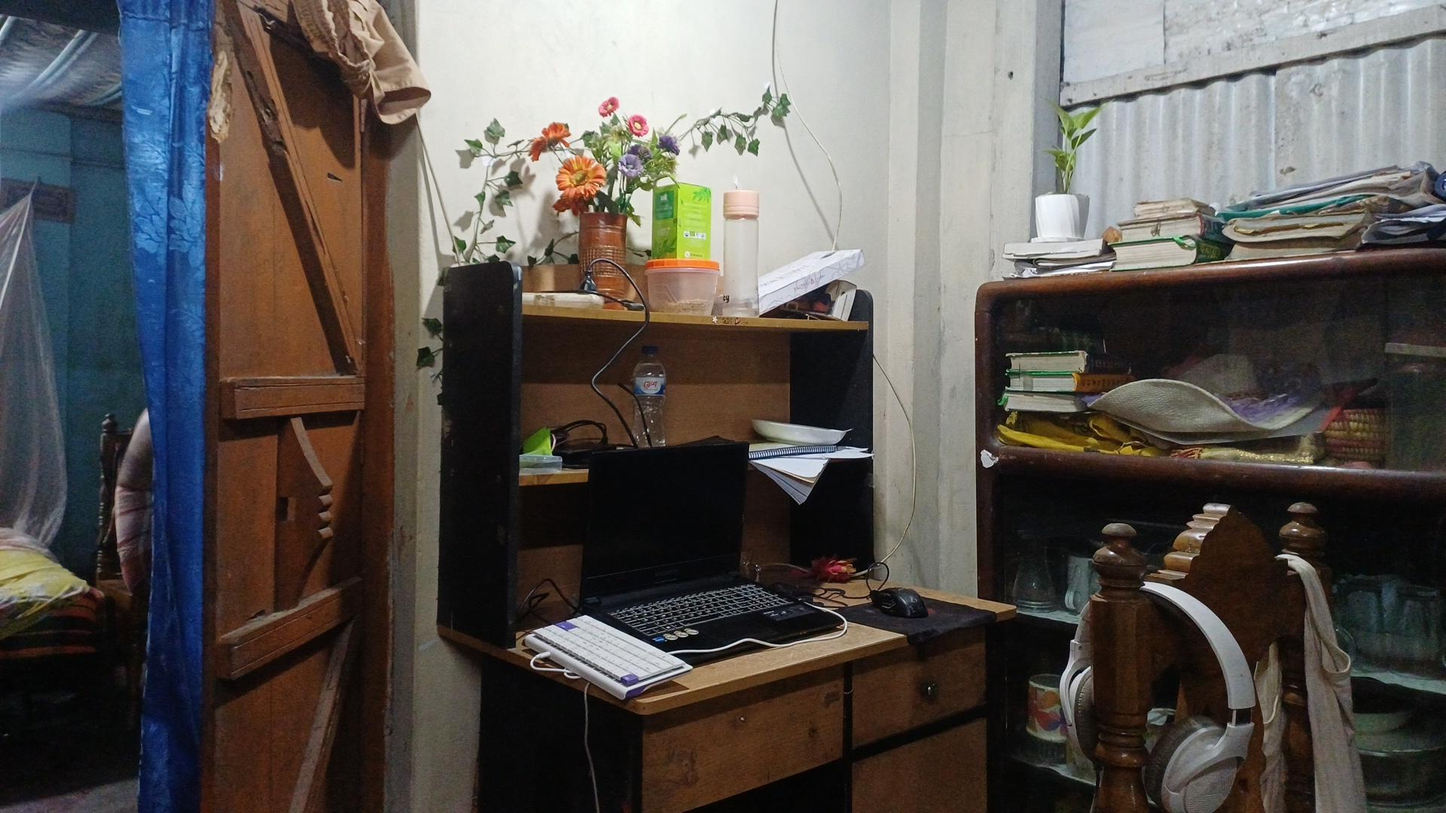Book: (1227, 207, 1415, 265), (988, 343, 1096, 433), (1104, 189, 1189, 272)
Bottle: (724, 176, 768, 312), (626, 346, 681, 454)
Box: (746, 290, 924, 334), (652, 178, 716, 257)
Door: (147, 63, 422, 784)
Drawer: (829, 673, 1023, 763)
Food: (644, 257, 737, 315)
Keyboard: (535, 586, 710, 704)
Laptop: (574, 449, 841, 659)
Mouse: (859, 575, 935, 624)
Plant: (524, 124, 647, 312), (1033, 95, 1104, 247)
Plate: (749, 402, 859, 448)
